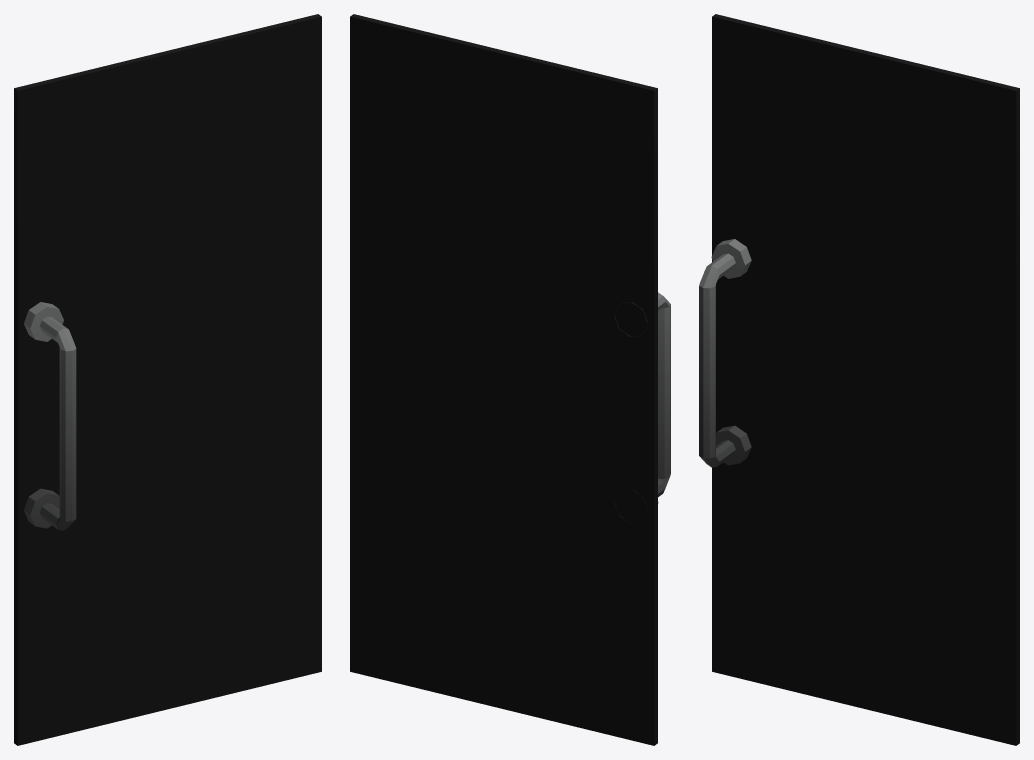
File: Server_Door.fbx
3 renders of one model, left to right at view 1: azimuth 30°, elevation 25°; view 2: azimuth 150°, elevation 25°; view 3: azimuth 330°, elevation 25°, orthographic.
Parts seen in each view (by area): view 1: Server_Door; view 2: Server_Door; view 3: Server_Door.
Part boxes in pixels (<box>): Server_Door: <box>14,14,321,745</box>; Server_Door: <box>350,14,670,745</box>; Server_Door: <box>699,14,1019,745</box>.
Size of the model in its own units: 82.93 by 171 by 16.77.
